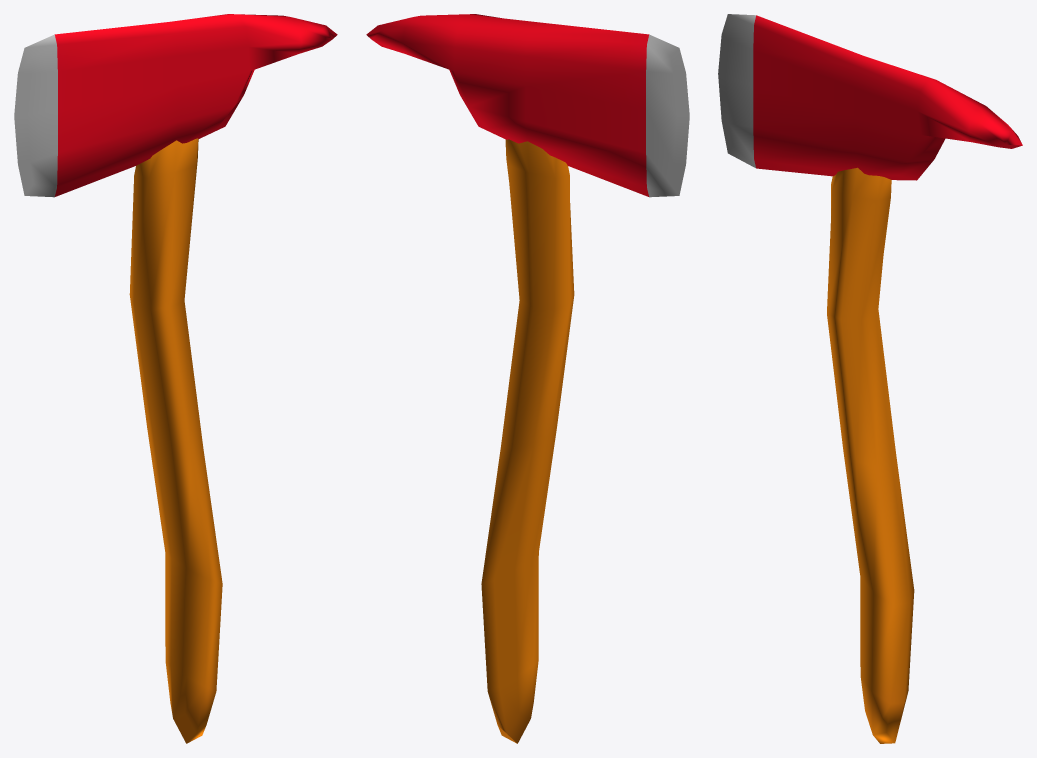
File: SM_Fire_Tool.fbx
3 renders of one model, left to right at view 1: azimuth 30°, elevation 25°; view 2: azimuth 150°, elevation 25°; view 3: azimuth 330°, elevation 25°, orthographic. The views are drawn at different scales.
Parts seen in each view (by area): view 1: SM_Fire_Tool; view 2: SM_Fire_Tool; view 3: SM_Fire_Tool.
Part boxes in pixels (box(x1,y1,x2,y2)): SM_Fire_Tool: box(14, 14, 337, 743); SM_Fire_Tool: box(366, 14, 689, 743); SM_Fire_Tool: box(718, 14, 1022, 743).
Size of the model in its own units: 35.5 by 77.73 by 5.8.
